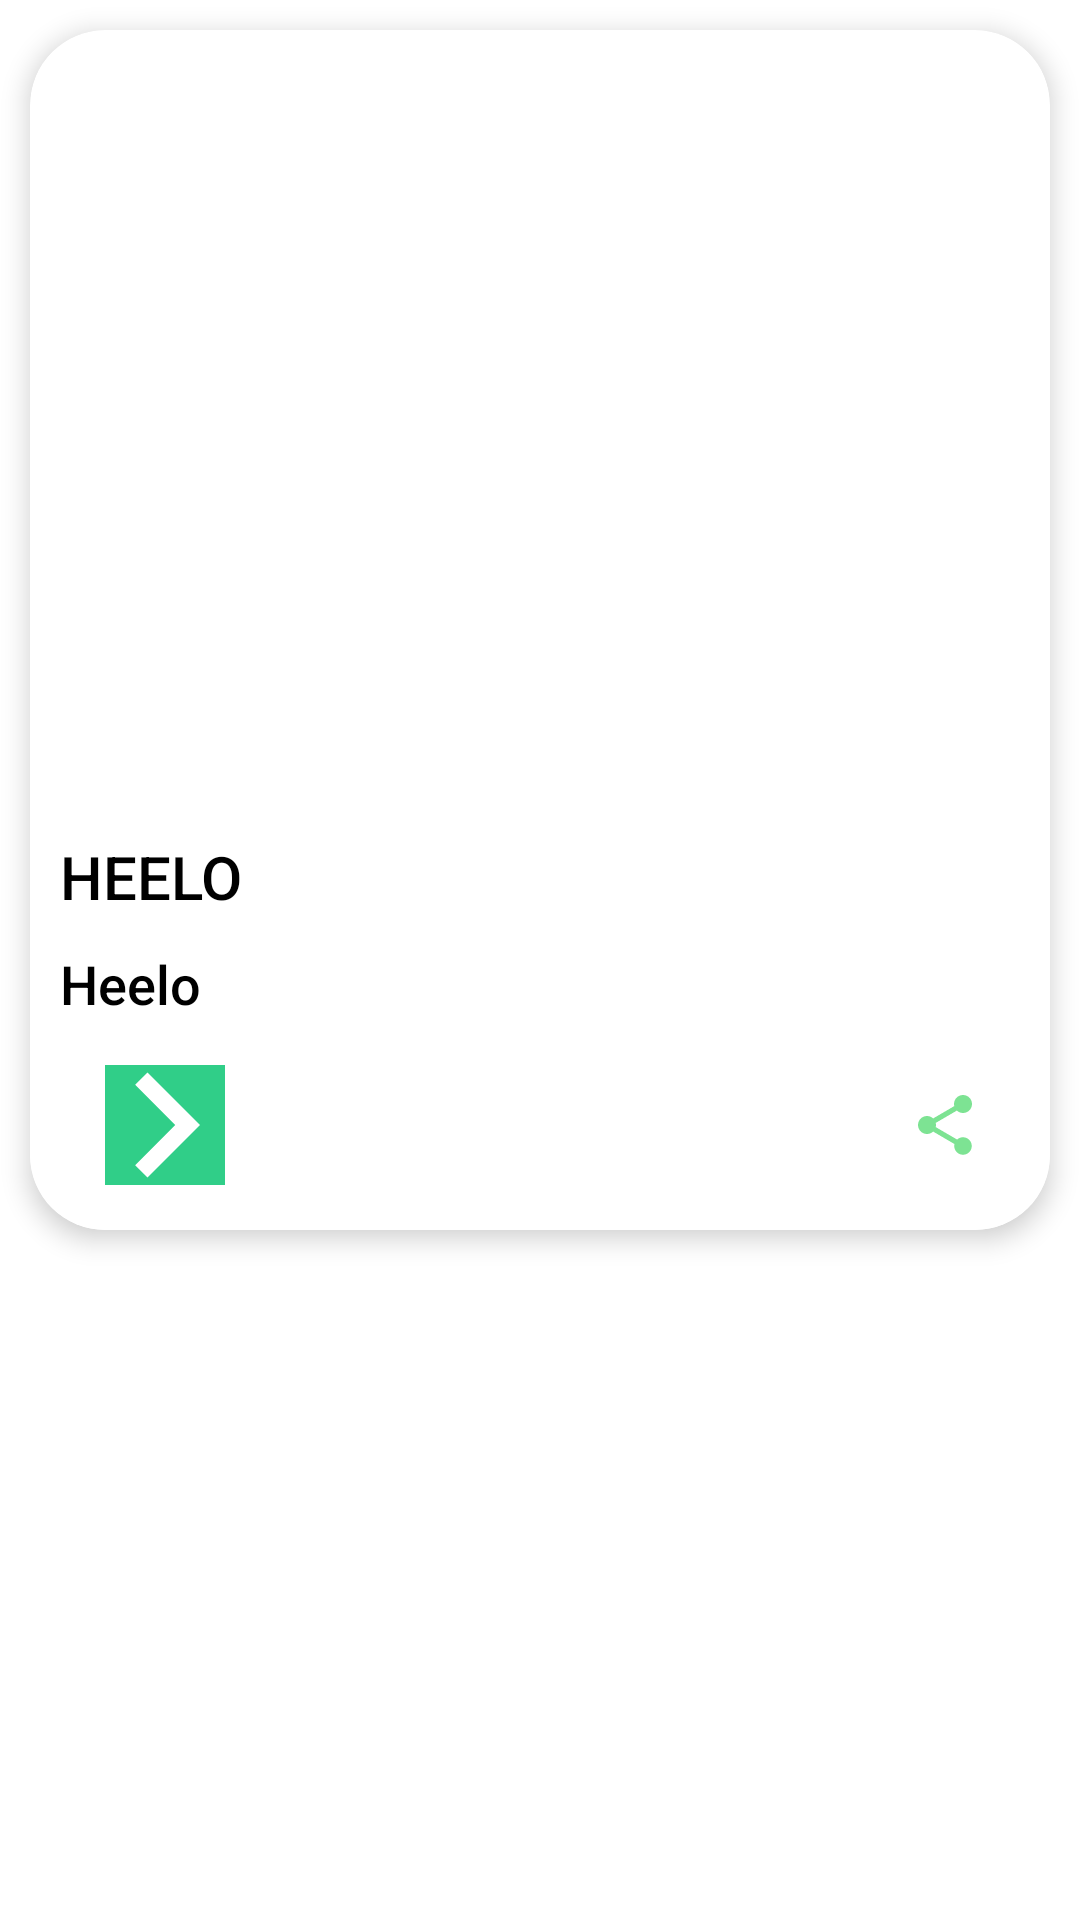

Screen size 1080x1920. Icon name, then its box in pixels as (x1, y1, x2, y2):
share: (918, 1095, 972, 1155)
